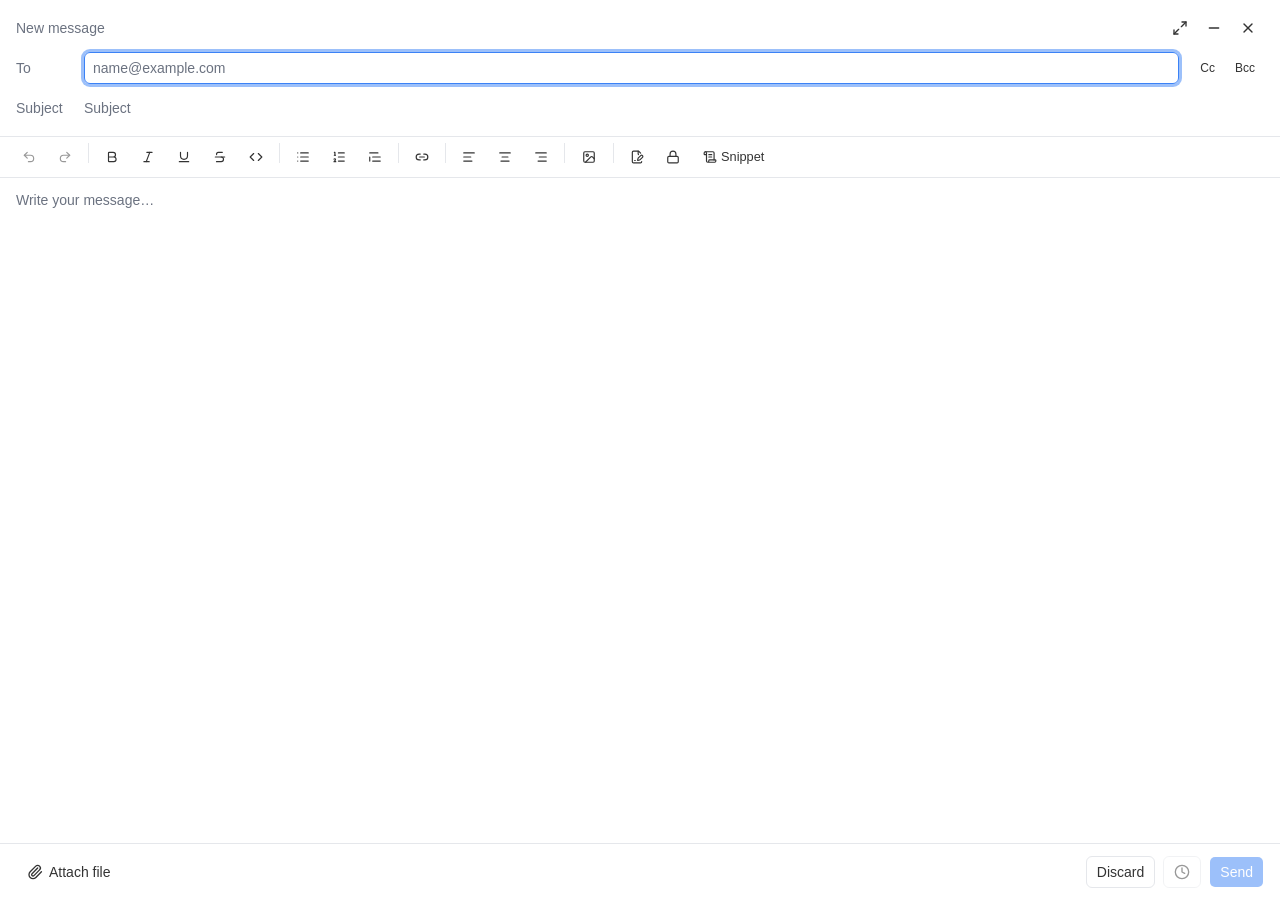
Test: Composer schedule send (task 10.1) › a past custom date/time cannot be confirmed
The width and height of the screenshot is (1280, 900).
Type "ada@example.com" into the dropdown labelled "To" at (632, 68), box left=93, top=58, right=1170, bottom=78
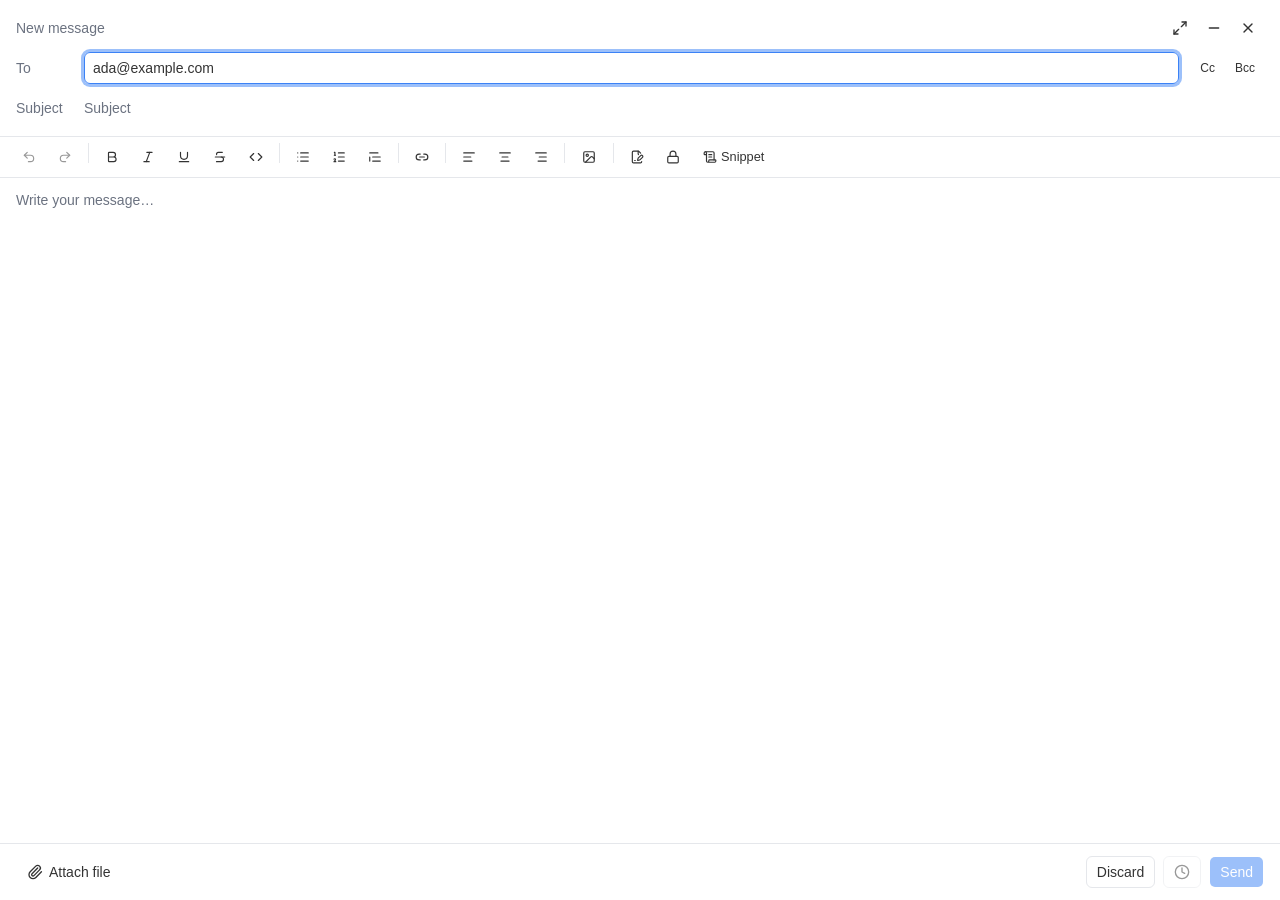
Press Enter in the dropdown labelled "To", box left=93, top=58, right=1170, bottom=78
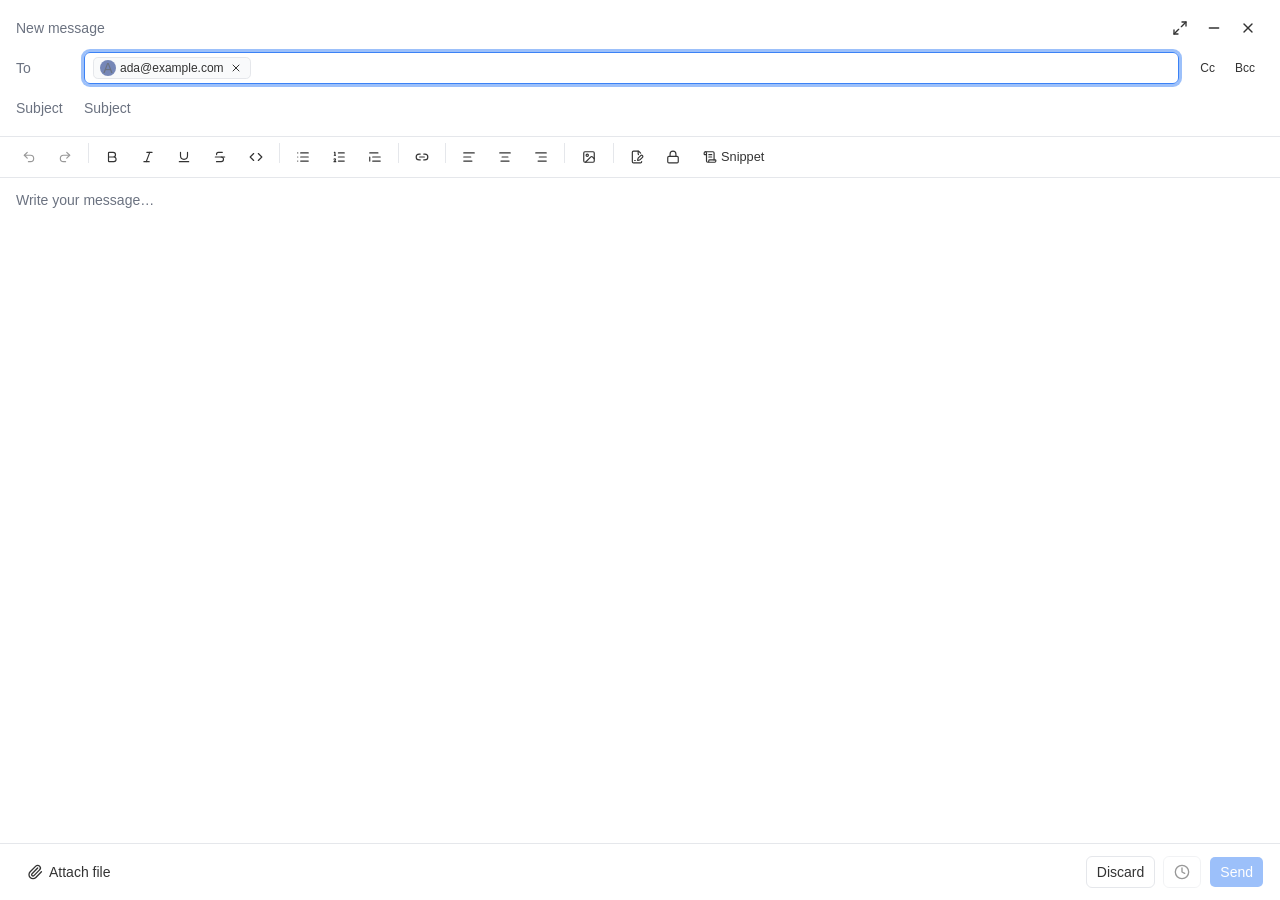
Type "Quarterly report" into the field labelled "Subject" at (674, 108), box left=84, top=92, right=1264, bottom=124
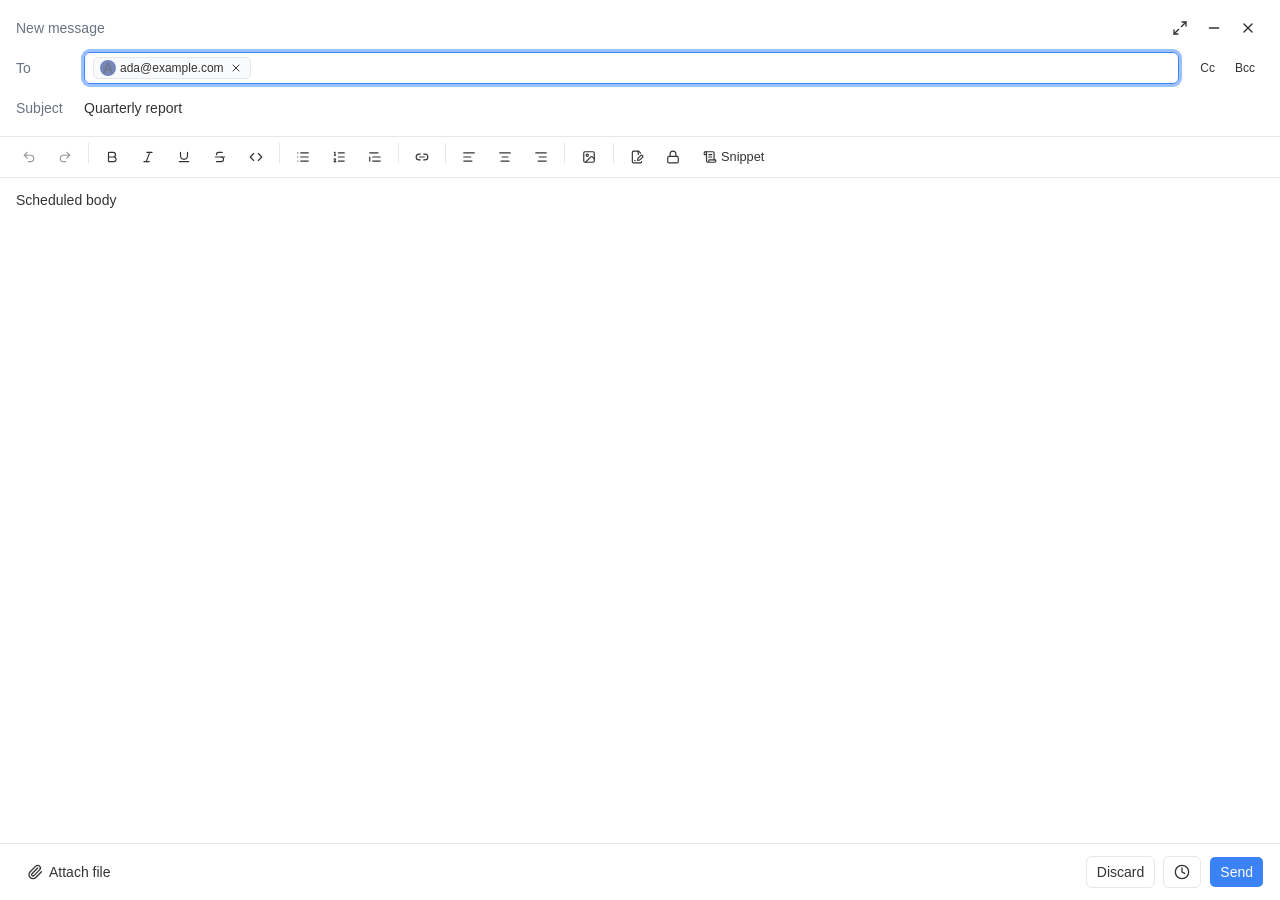
Click the button named "Schedule send" at (1182, 872), box left=1163, top=856, right=1201, bottom=888
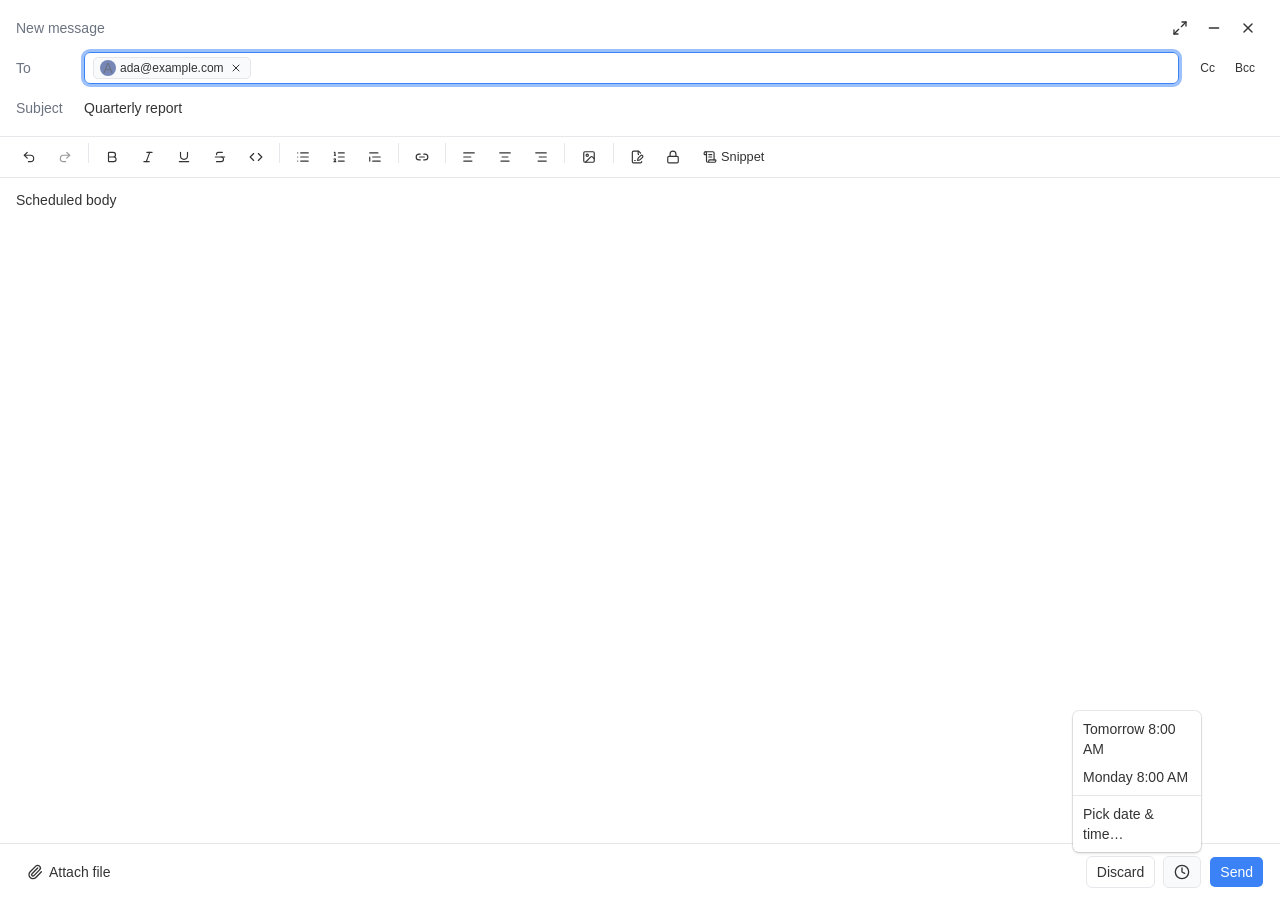
Click the menu item "Pick date & time…" at (1118, 824), box left=1083, top=806, right=1154, bottom=842
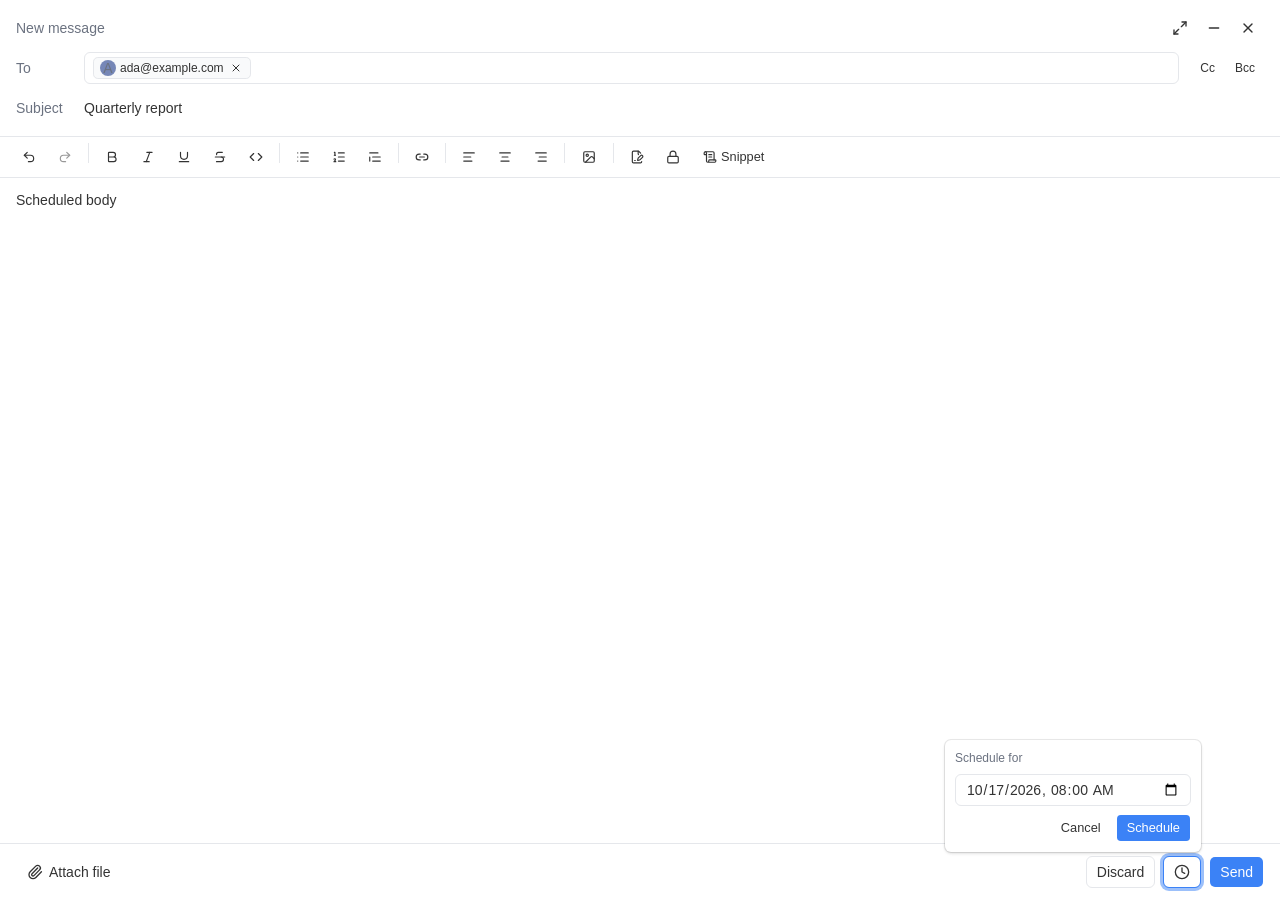
Replace the text in the field labelled "Schedule for" with "2020-01-01T08:00" at (1073, 790), box left=955, top=774, right=1191, bottom=806
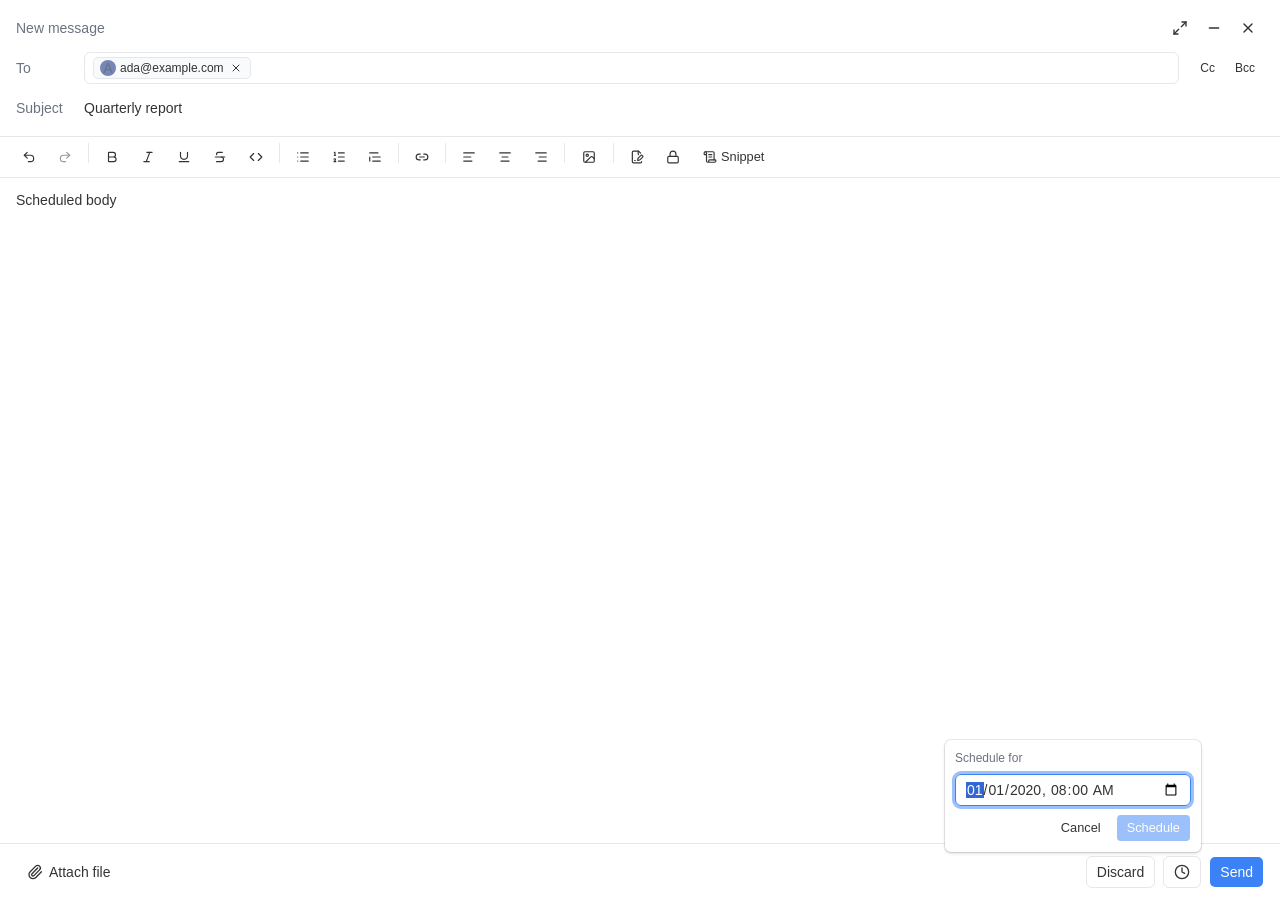
Now the button "Schedule" is disabled, box left=1116, top=814, right=1191, bottom=842
